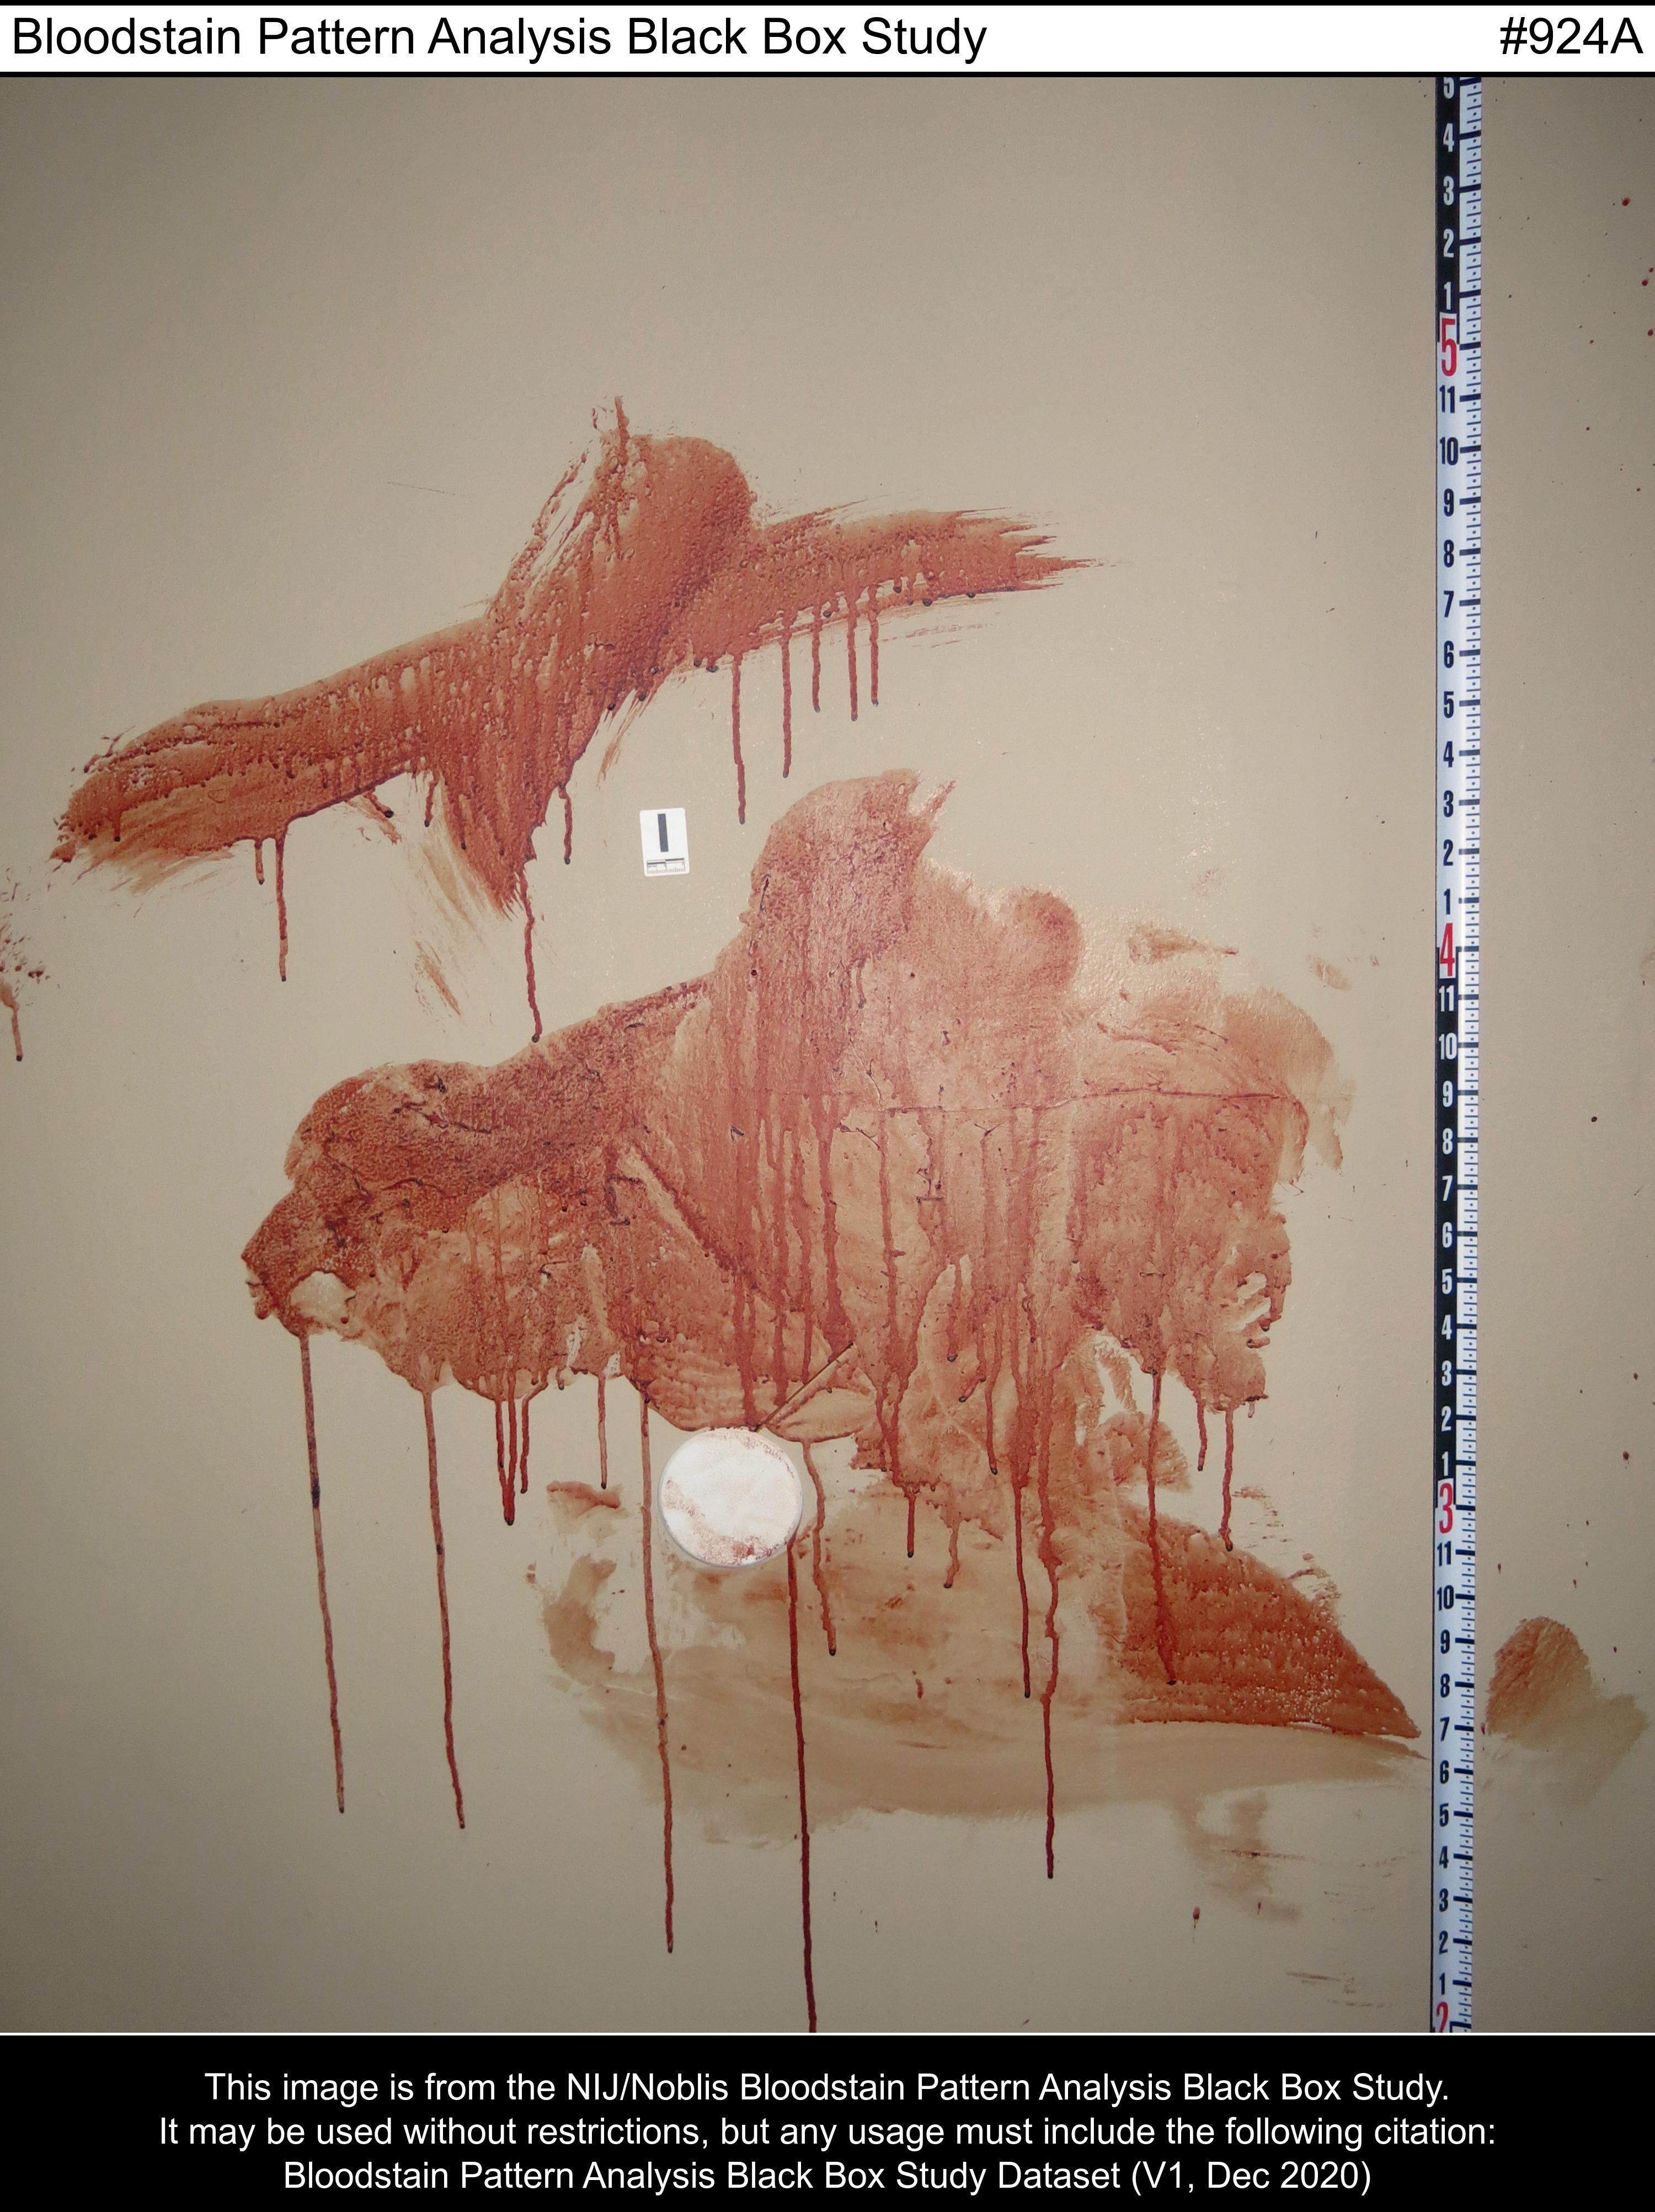Transfer: (7, 276, 1422, 2050)
